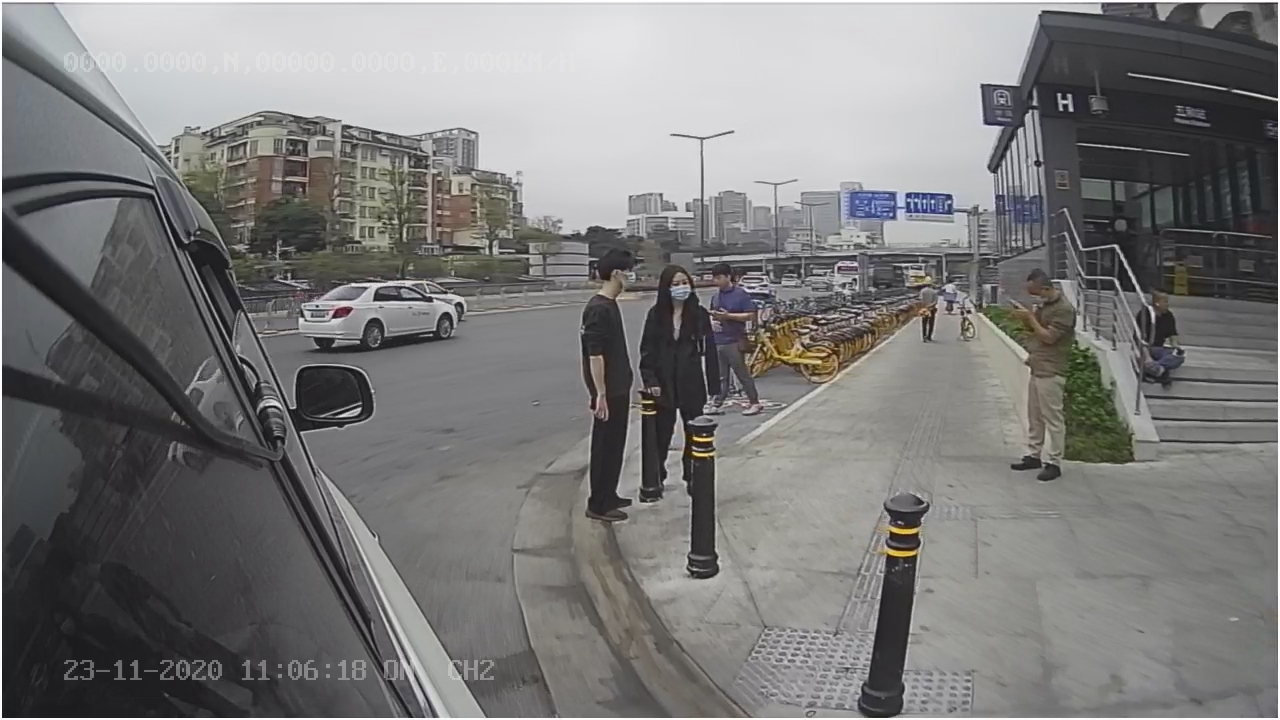person: (568, 241, 640, 532)
